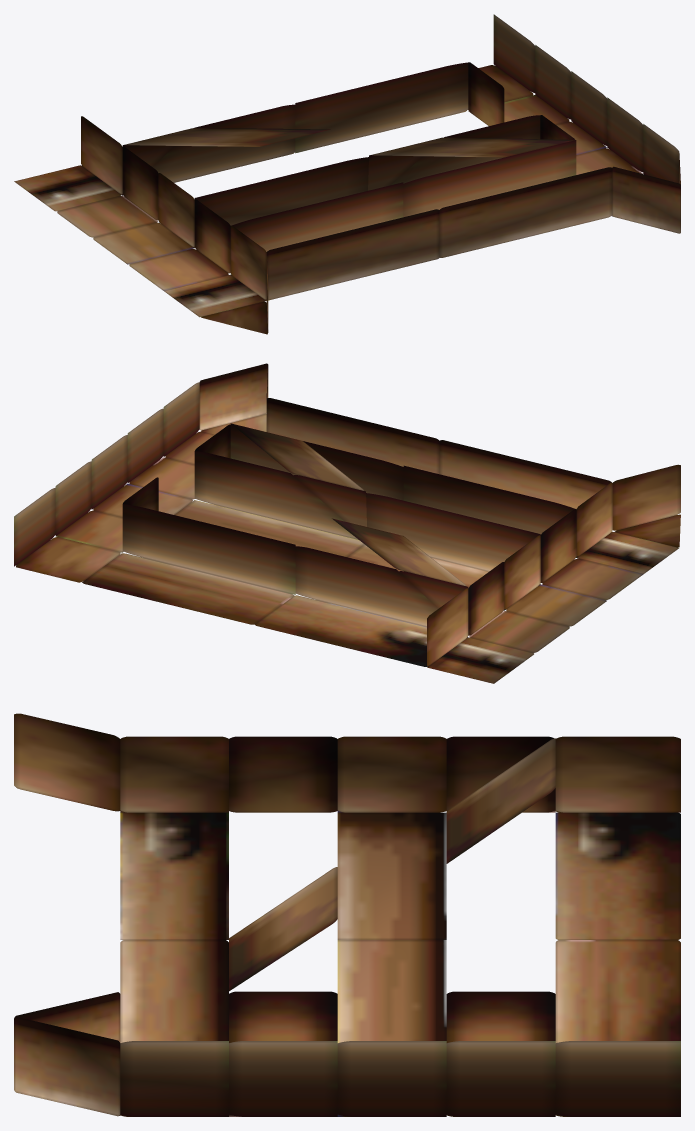
3 renders of one model, top to bottom at view 1: azimuth 30°, elevation 25°; view 2: azimuth 150°, elevation 25°; view 3: azimuth 270°, elevation 25°, orthographic. The views are drawn at different scales.
Parts seen in each view (by area): view 1: T1L2M009_38; view 2: T1L2M009_38; view 3: T1L2M009_38.
Part boxes in pixels (x1=…): T1L2M009_38: x1=14, y1=14, x2=680, y2=334; T1L2M009_38: x1=14, y1=363, x2=680, y2=683; T1L2M009_38: x1=14, y1=713, x2=680, y2=1116.
Bounding box in the file's own units: 2 × 0.2002 × 1.59.
